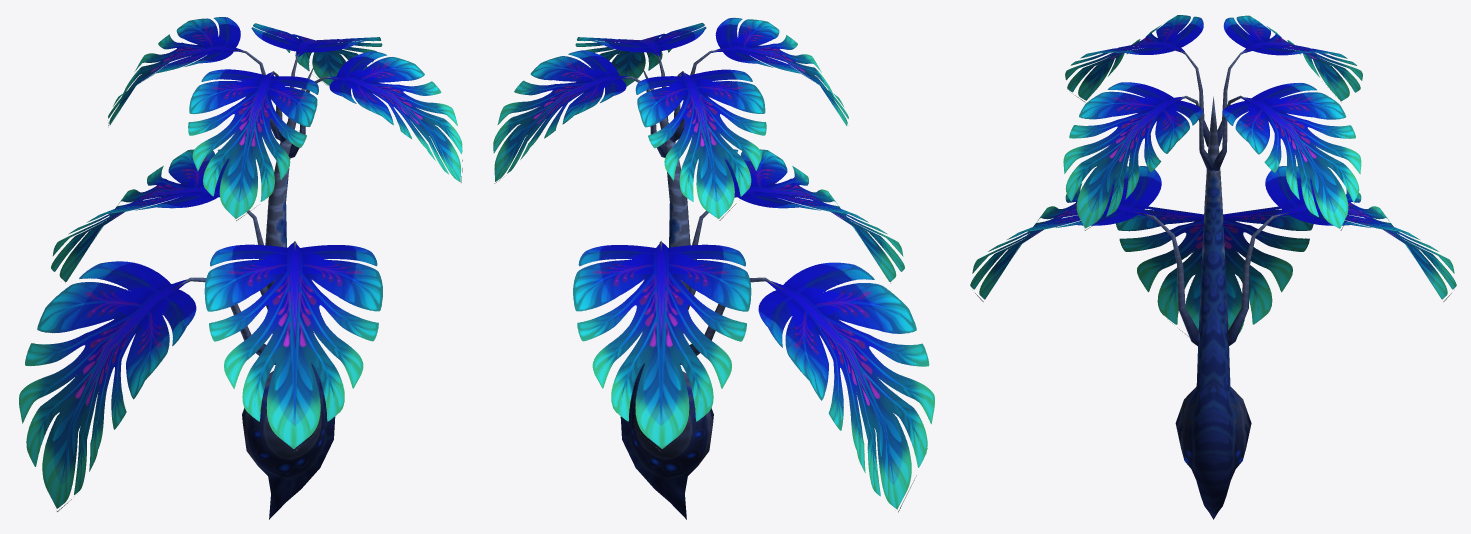
Rendered from Blue_Tree_03b.FBX.
3 renders of one model, left to right at view 1: azimuth 30°, elevation 25°; view 2: azimuth 150°, elevation 25°; view 3: azimuth 270°, elevation 25°, orthographic.
Parts seen in each view (by area): view 1: Blue_Tree_03b; view 2: Blue_Tree_03b; view 3: Blue_Tree_03b.
Boxes of the visible parts, left/top/right/bottom form: Blue_Tree_03b: left=19, top=17, right=462, bottom=519; Blue_Tree_03b: left=493, top=17, right=934, bottom=519; Blue_Tree_03b: left=970, top=15, right=1456, bottom=519.
Bounding box in the file's own units: 160 × 197 × 184.
